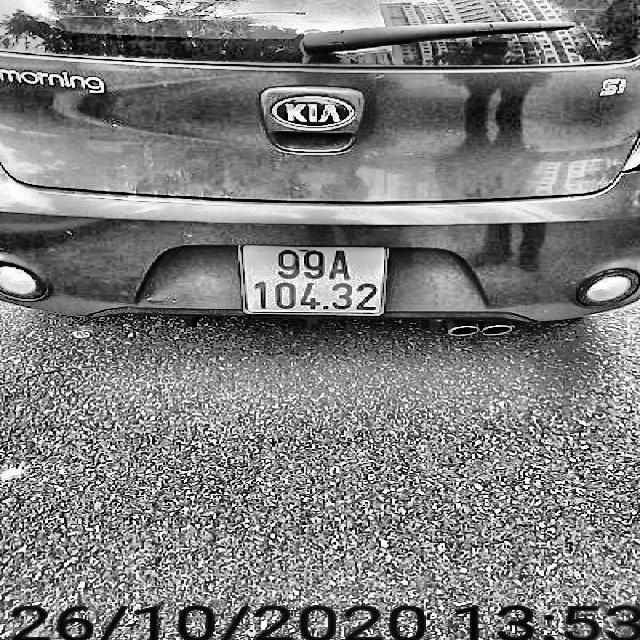plate: (232, 239, 394, 321)
